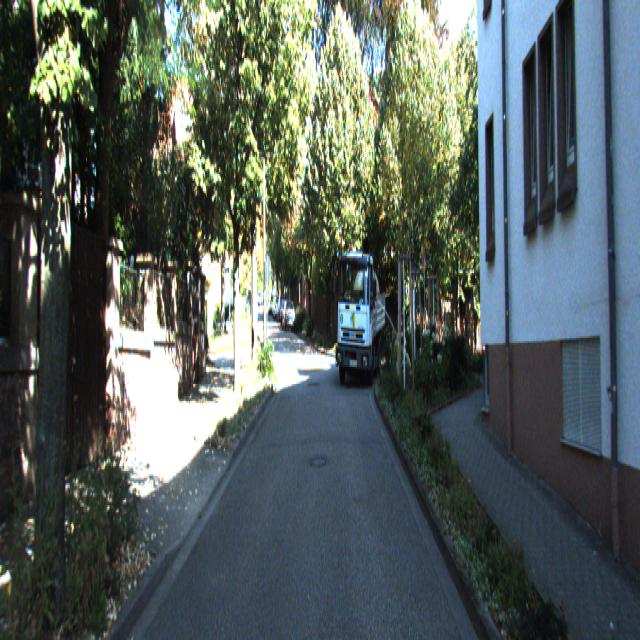Car: (334, 243, 387, 390), (282, 297, 296, 331)
